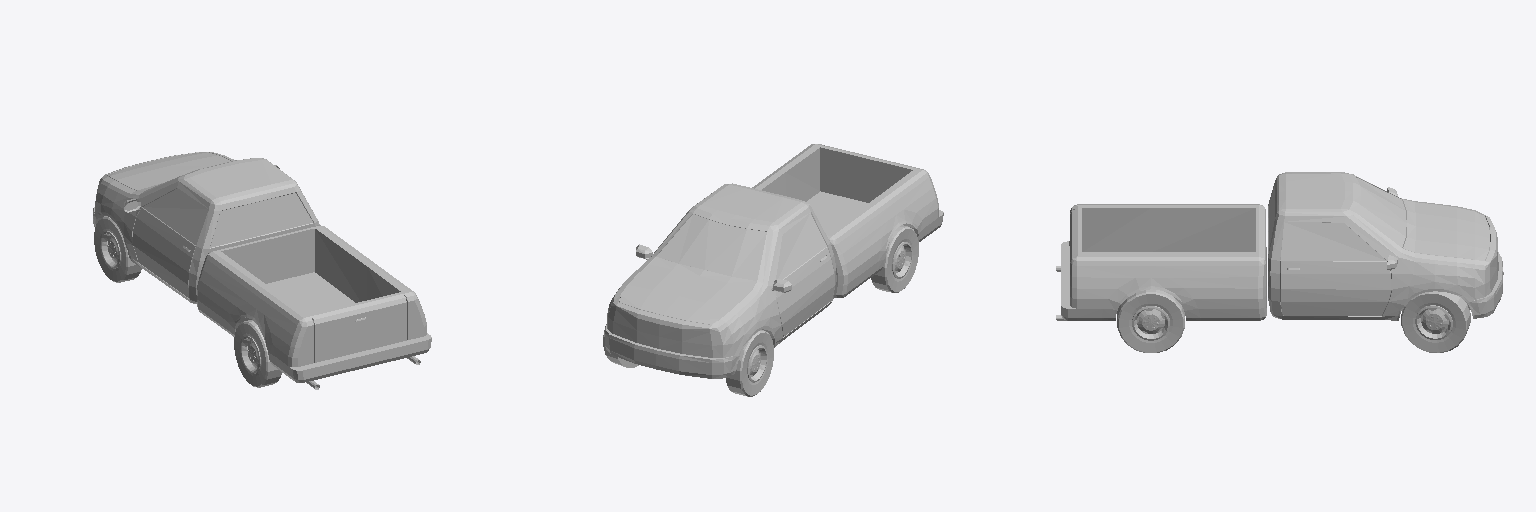
The model's file is truck.obj.
3 renders of one model, left to right at view 1: azimuth 30°, elevation 25°; view 2: azimuth 150°, elevation 25°; view 3: azimuth 270°, elevation 25°, orthographic.
Parts seen in each view (by area): view 1: PickupCab_Pickup_Cab; view 2: PickupCab_Pickup_Cab; view 3: PickupCab_Pickup_Cab.
Part boxes in pixels (left/top/right/bottom): PickupCab_Pickup_Cab: left=93, top=152, right=431, bottom=389; PickupCab_Pickup_Cab: left=603, top=144, right=943, bottom=396; PickupCab_Pickup_Cab: left=1056, top=172, right=1503, bottom=352.
Size of the model in its own units: 2.44 by 1.95 by 6.06.